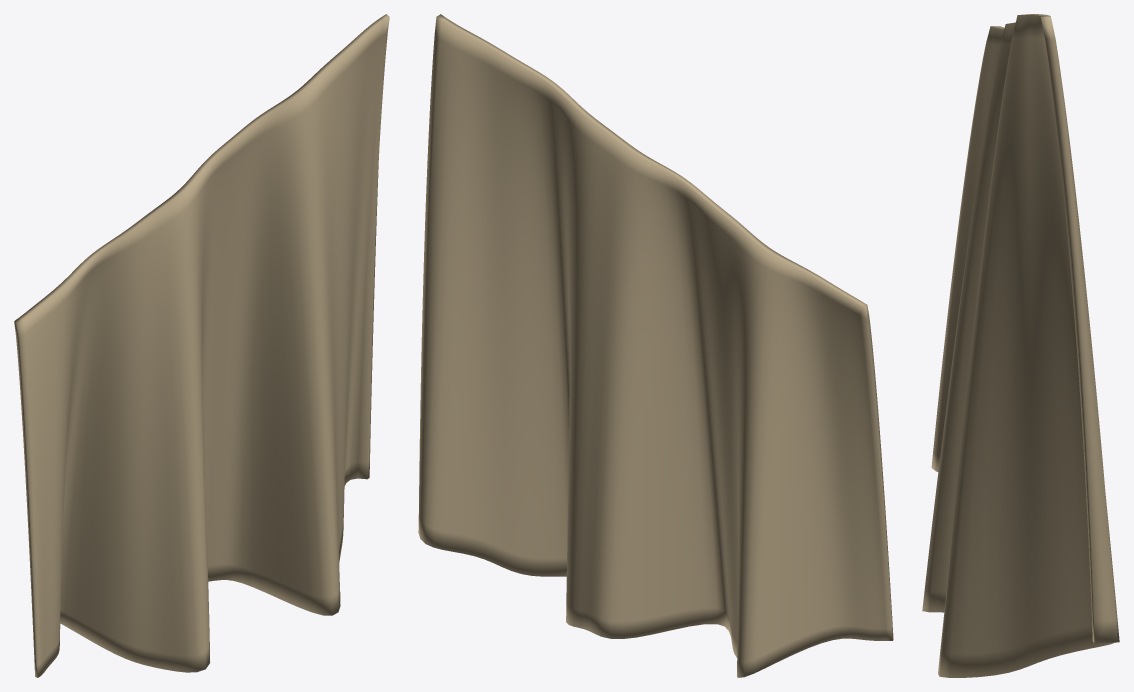
The model's file is cave-drapery.glb.
The picture shows the model from 3 angles, left to right: view 1: azimuth 30°, elevation 25°; view 2: azimuth 150°, elevation 25°; view 3: azimuth 270°, elevation 25°; orthographic projection. The views are drawn at different scales.
Parts seen in each view (by area): view 1: thick-folded-mineral-drapery-and-sloping-attachment-edge; view 2: thick-folded-mineral-drapery-and-sloping-attachment-edge; view 3: thick-folded-mineral-drapery-and-sloping-attachment-edge.
Part boxes in pixels (box(x1,y1,x2,y2)): thick-folded-mineral-drapery-and-sloping-attachment-edge: box(14, 14, 389, 677); thick-folded-mineral-drapery-and-sloping-attachment-edge: box(418, 14, 893, 677); thick-folded-mineral-drapery-and-sloping-attachment-edge: box(922, 14, 1119, 677).
Size of the model in its own units: 0.3276 by 0.45 by 0.1076.
